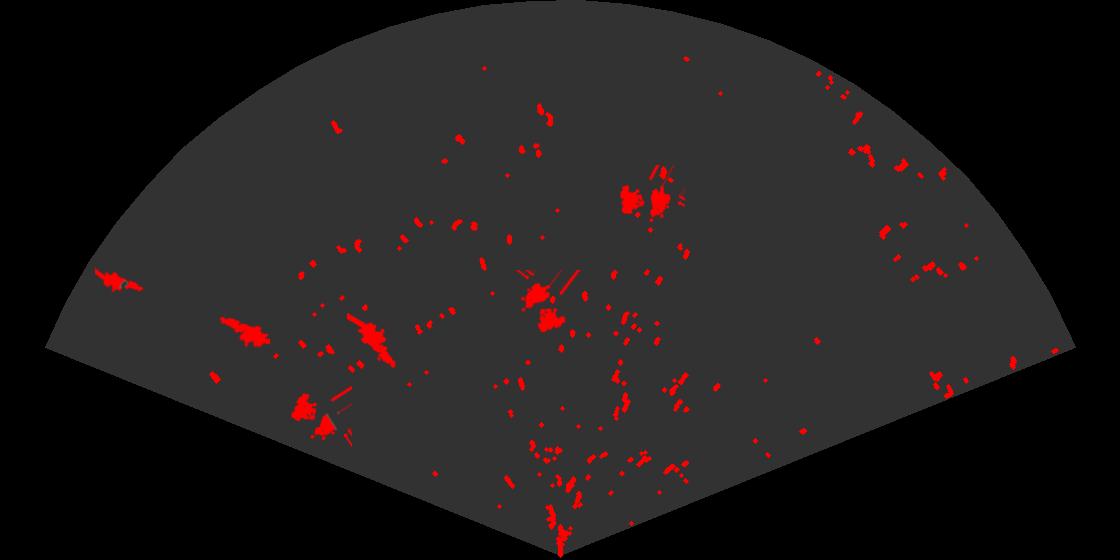cage: (514, 270, 583, 334), (289, 384, 352, 449), (618, 165, 685, 224)
frogman: (347, 313, 398, 370), (217, 315, 270, 349), (95, 264, 145, 294)
